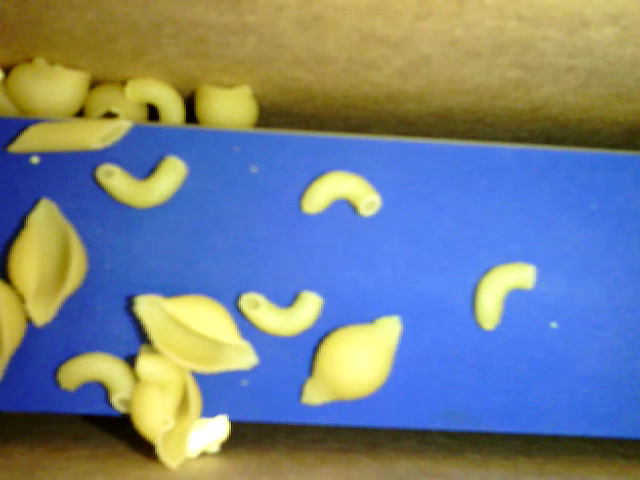elbow: (94, 153, 190, 208), (55, 353, 136, 411), (474, 259, 538, 332), (236, 286, 325, 336), (299, 169, 386, 215), (139, 351, 187, 433), (126, 75, 187, 126)
penne: (5, 119, 135, 152)
shell: (8, 195, 90, 327), (130, 291, 258, 375), (300, 312, 403, 407), (128, 342, 199, 472), (3, 58, 91, 118), (191, 84, 259, 127), (83, 80, 151, 123)
